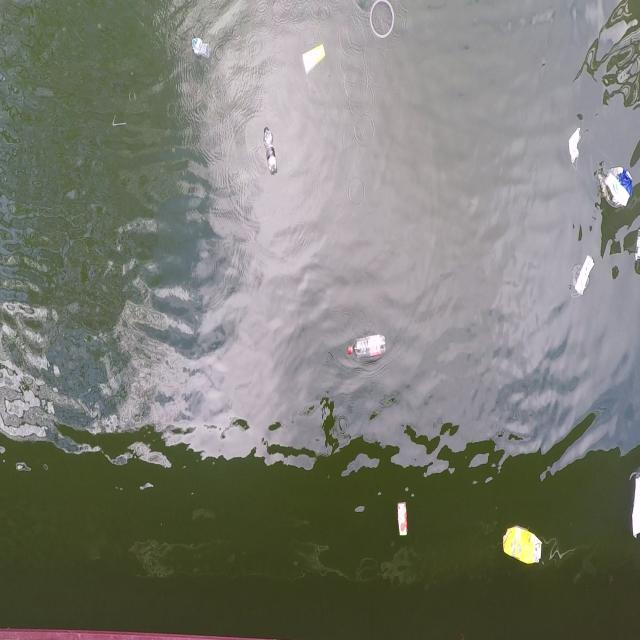Bouteille plastique: (342, 331, 392, 364), (261, 121, 282, 181)
Non plastique: (569, 250, 598, 304), (298, 38, 332, 77), (393, 491, 413, 548)
Sac plastique: (596, 158, 636, 214)
